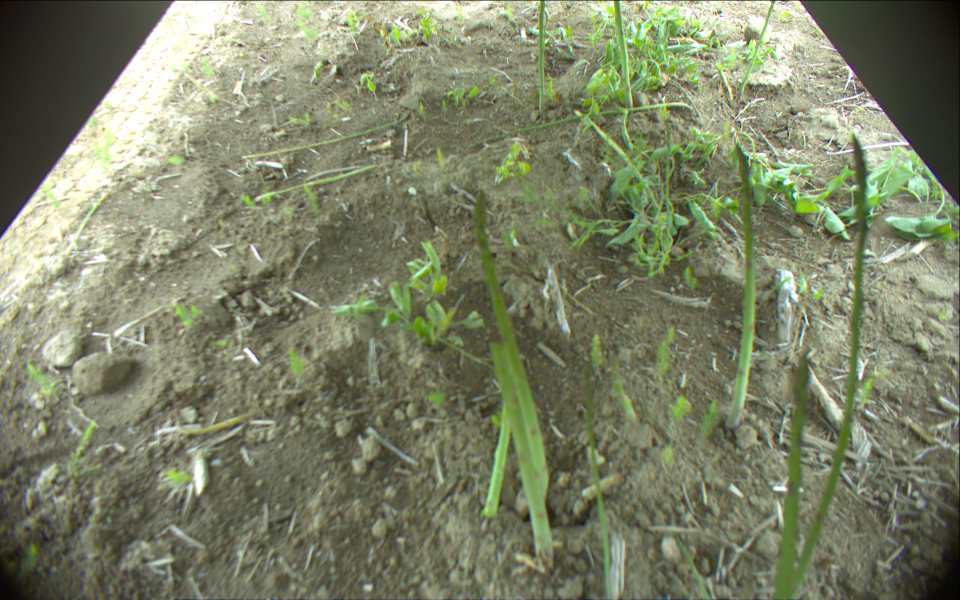aspa: (792, 132, 868, 594), (471, 189, 548, 500), (488, 341, 553, 566), (471, 101, 694, 147), (769, 349, 808, 600), (242, 108, 415, 158), (577, 109, 658, 209), (730, 143, 756, 430), (584, 361, 614, 600), (256, 164, 376, 202), (738, 1, 775, 100), (61, 189, 112, 256), (483, 398, 510, 519), (612, 1, 634, 109), (610, 371, 639, 426), (536, 1, 545, 114), (621, 106, 635, 150), (715, 64, 732, 99)
